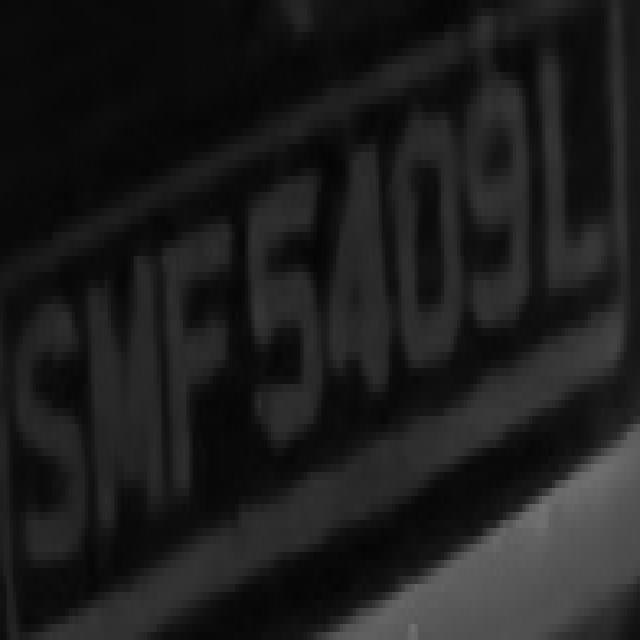0: (389, 88, 457, 392)
4: (307, 112, 389, 432)
5: (242, 144, 316, 448)
9: (454, 56, 535, 376)
F: (173, 192, 238, 512)
L: (529, 24, 620, 328)
M: (85, 232, 170, 536)
S: (10, 296, 85, 584)
